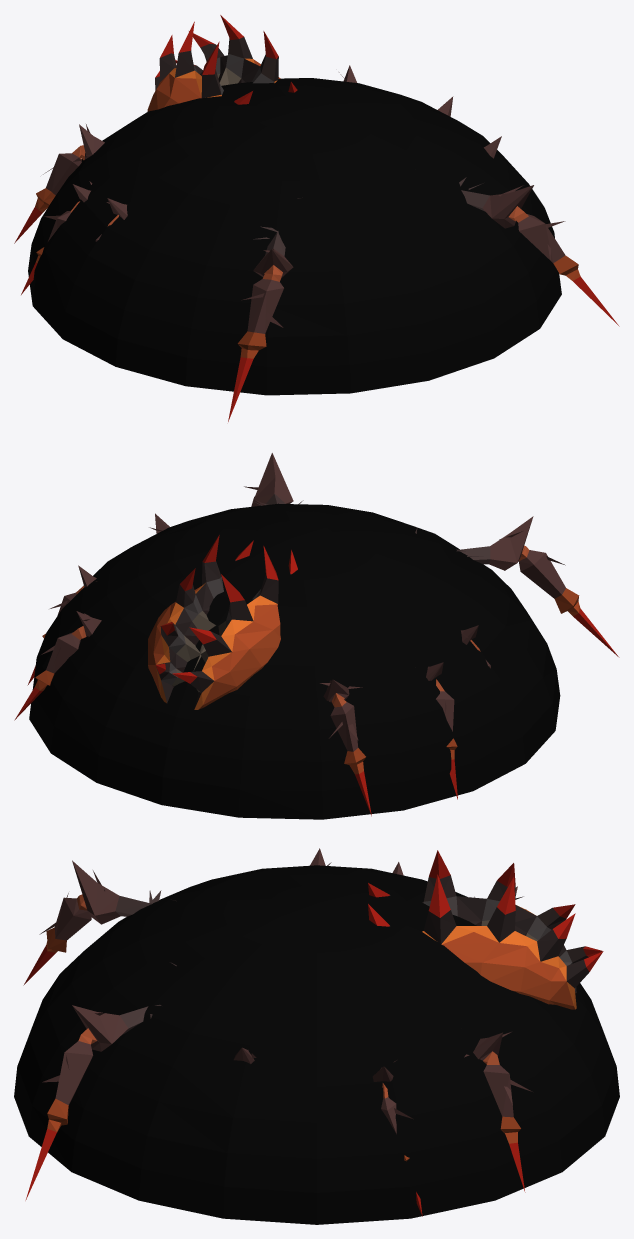
Rendered from araxxor.gltf.
The picture shows the model from 3 angles, top to bottom: view 1: azimuth 30°, elevation 25°; view 2: azimuth 150°, elevation 25°; view 3: azimuth 270°, elevation 25°; orthographic projection. The views are drawn at different scales.
Size of the model in its own units: 738 by 327 by 738.
2 materials, 2 textured.
